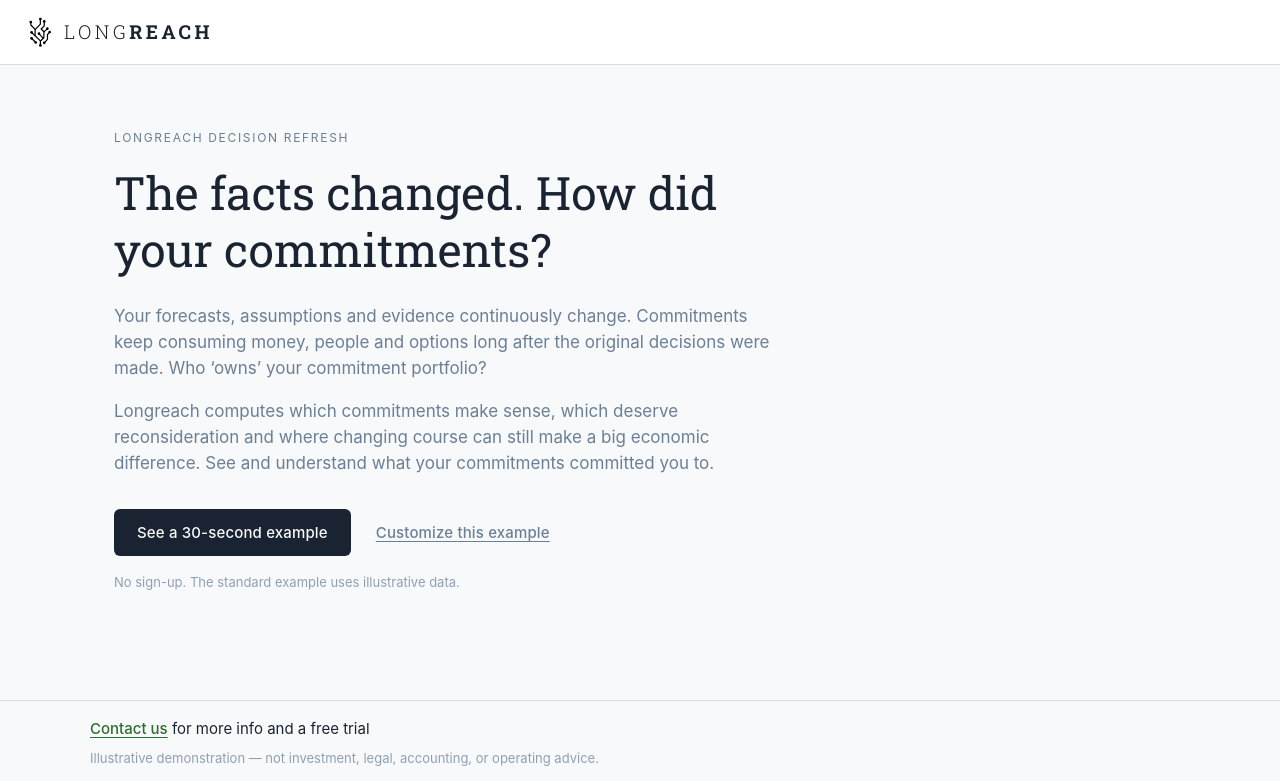
Test case: C1 intake › offers all six commitment types as the spec names them
The image size is (1280, 781).
Click the button "Customize this example" at [463, 532], box [375,514,551,551]
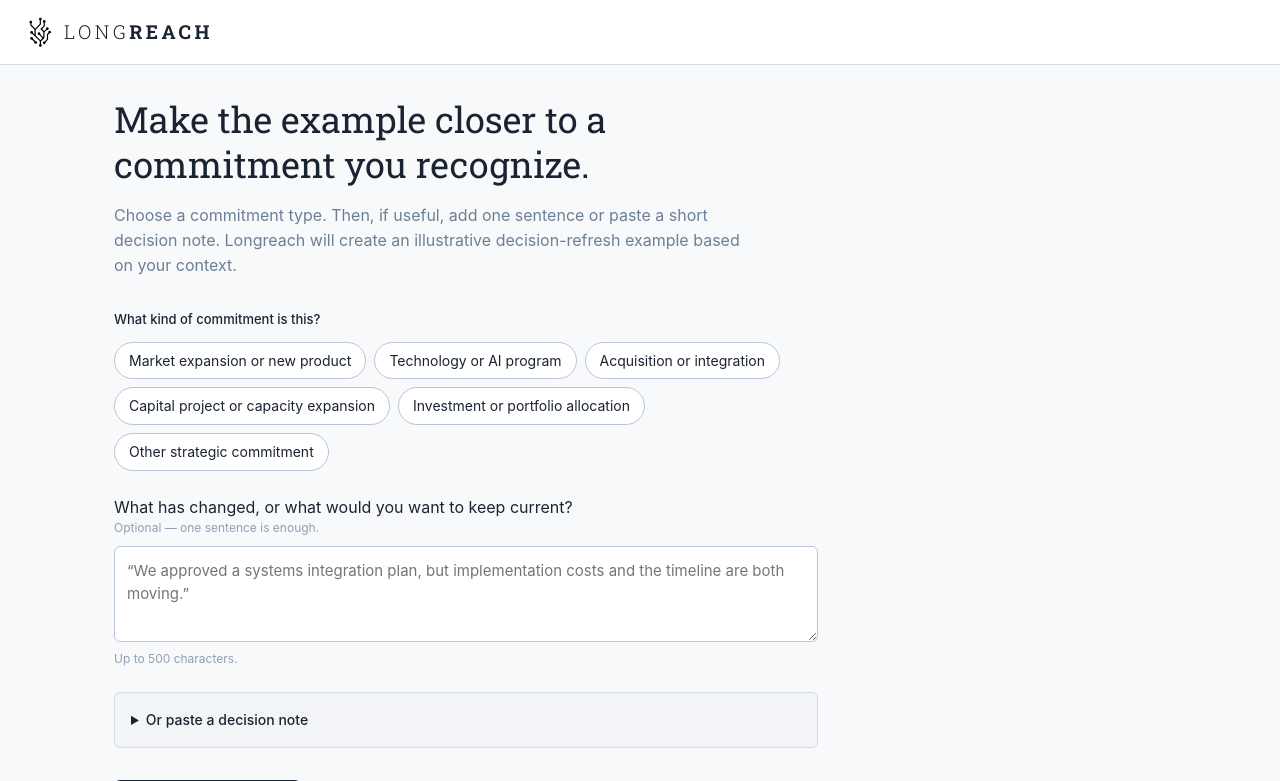
Now the button "Market expansion or new product" is shown, box [114,342,366,379]
Now the button "Technology or AI program" is shown, box [374,342,577,379]
Now the button "Acquisition or integration" is shown, box [584,342,780,379]
